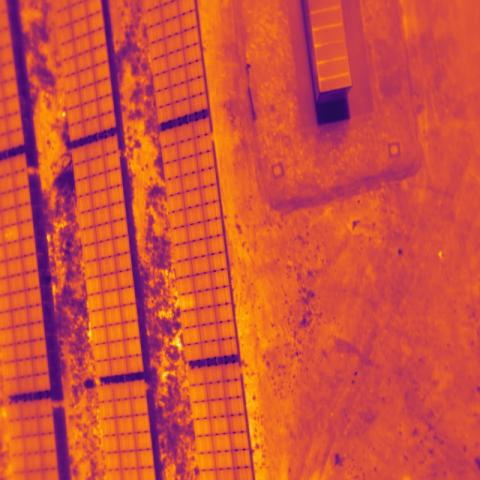fault: (2, 224, 21, 246), (179, 293, 196, 312)
